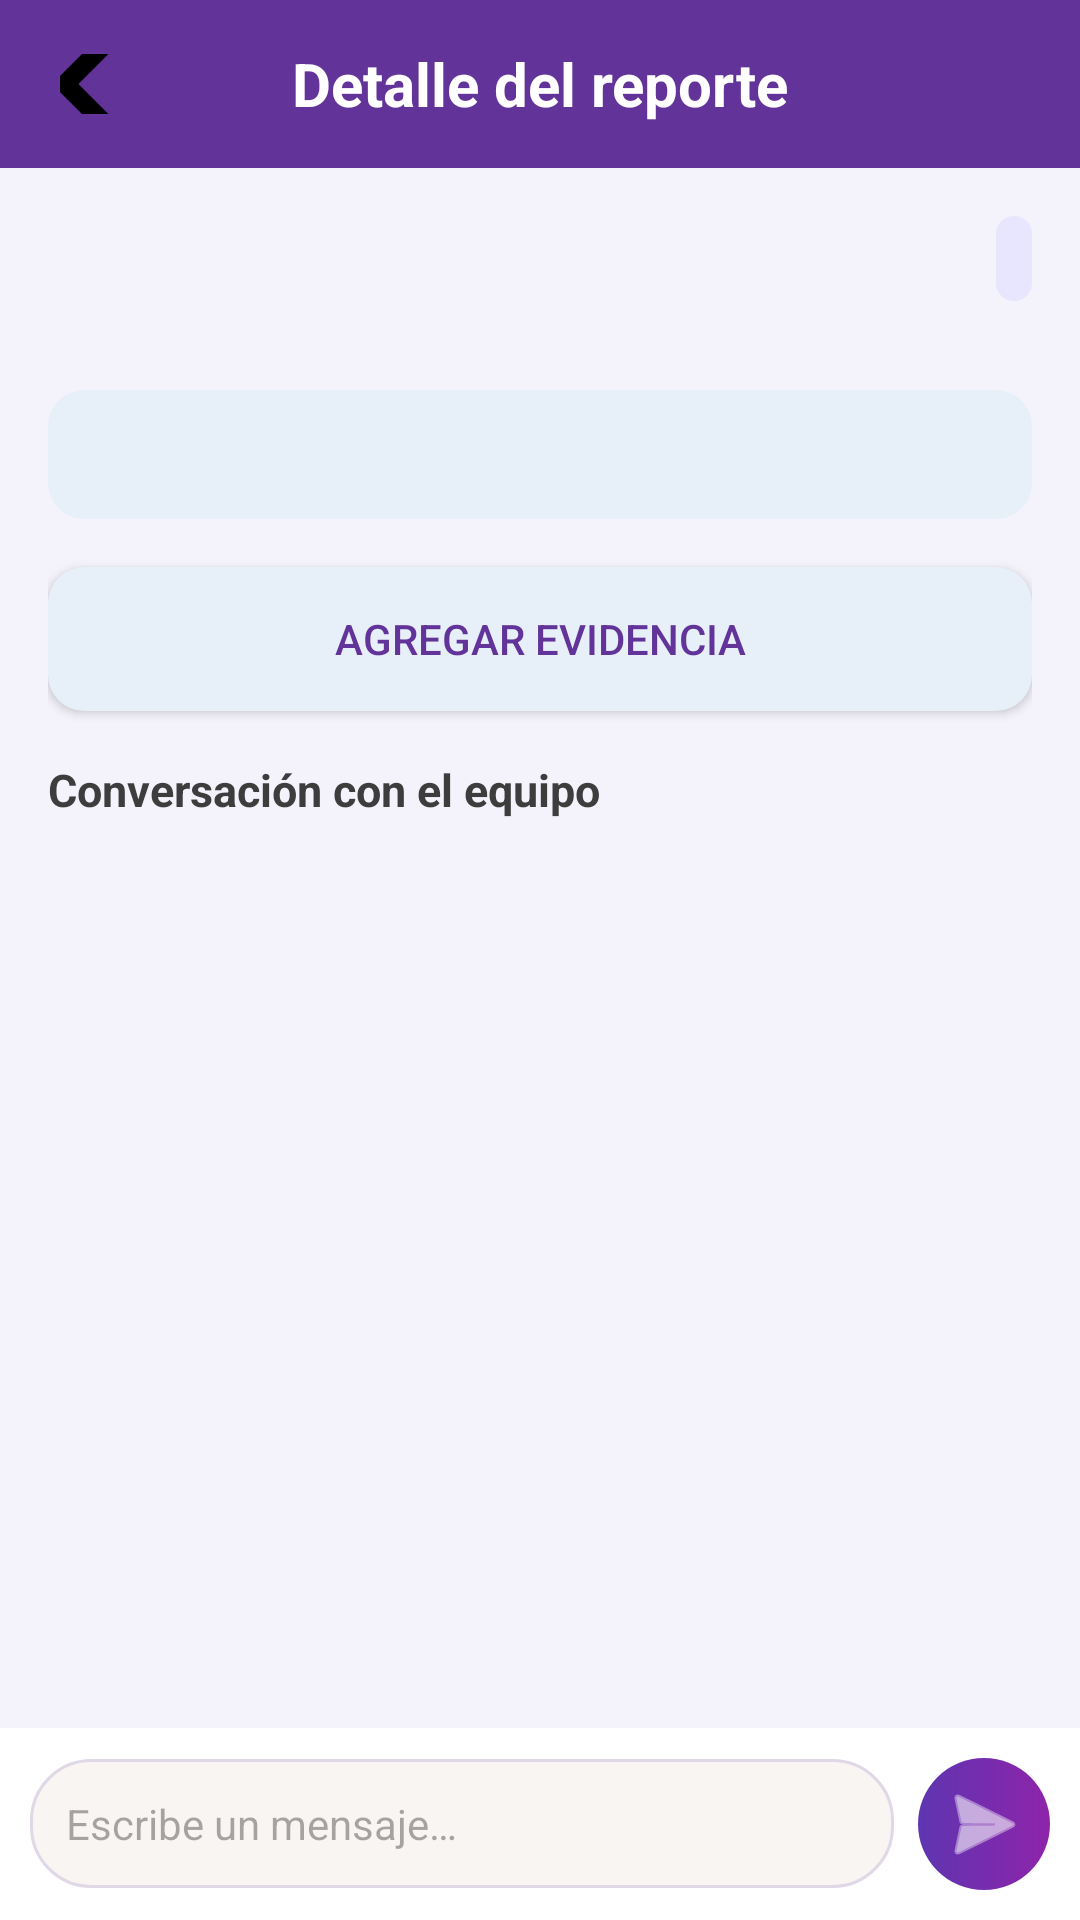

Named icons in this screenshot (1080x1920) and their centers, (x,y):
back: (84,84)
send: (984,1824)
